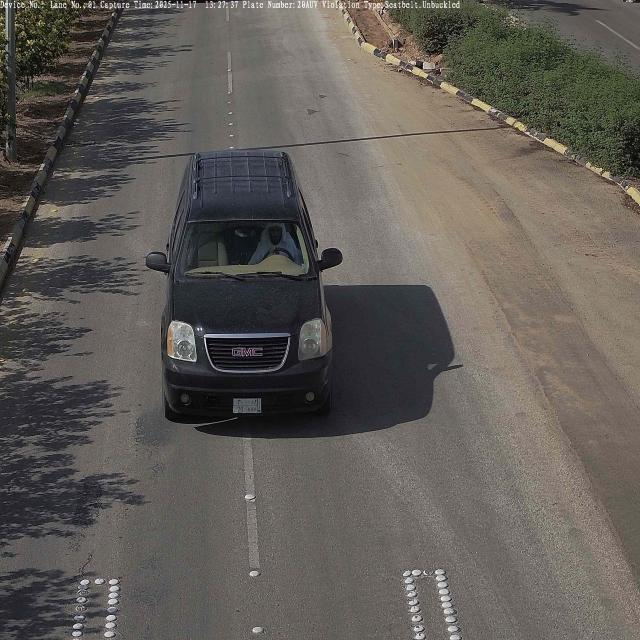person_without_seatbelt: (254, 222, 296, 264)
